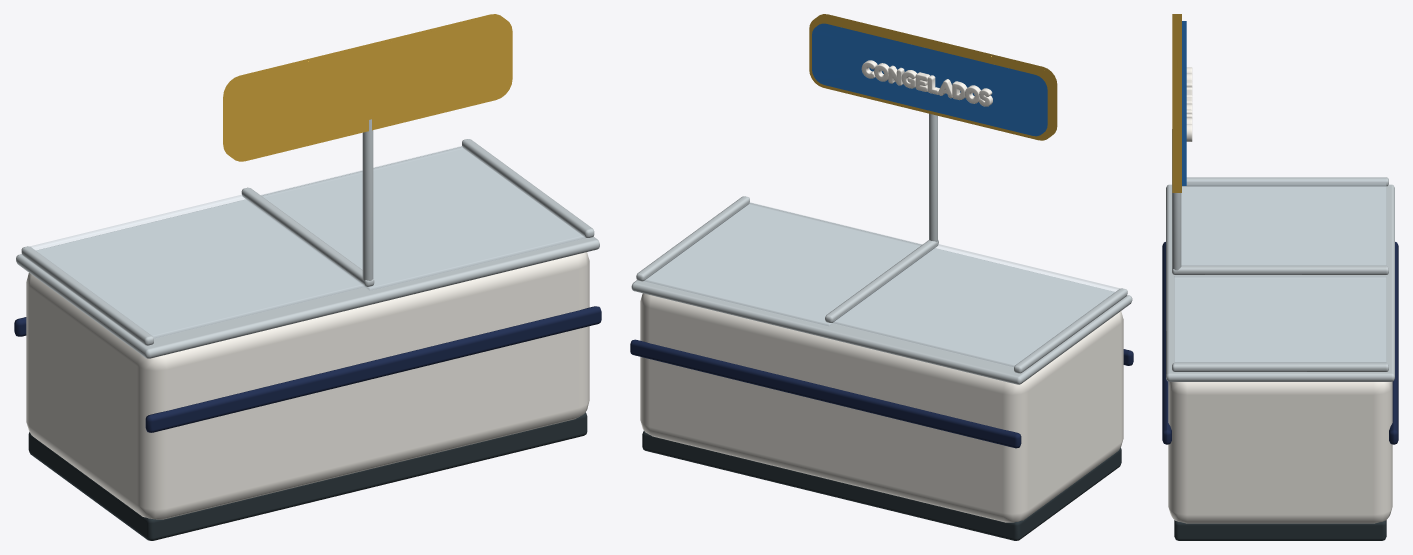
The model's file is shelf-freezer.fbx.
3 views of the same model, side by side, from view 1: azimuth 30°, elevation 25°; view 2: azimuth 150°, elevation 25°; view 3: azimuth 270°, elevation 25° (orthographic). The views are drawn at different scales.
Parts seen in each view (by area): view 1: Body; view 2: Body; view 3: Body.
Boxes of the visible parts, x1,y1,x2,y2 form: Body: (14,14,601,540); Body: (630,14,1133,540); Body: (1162,14,1398,540).
Bounding box in the file's own units: 1.92 × 1.79 × 1.
